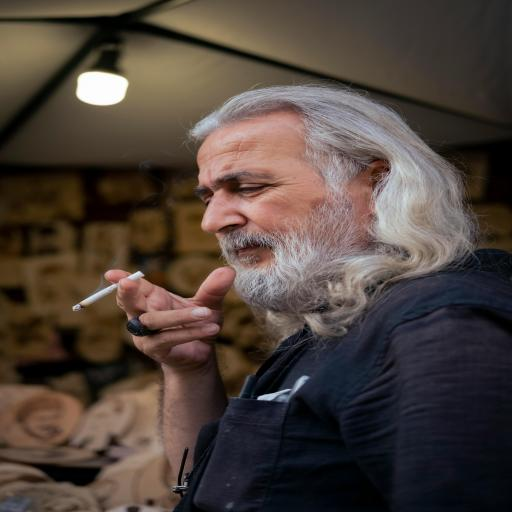terdeteksi pegang rokok: (60, 240, 201, 374)
